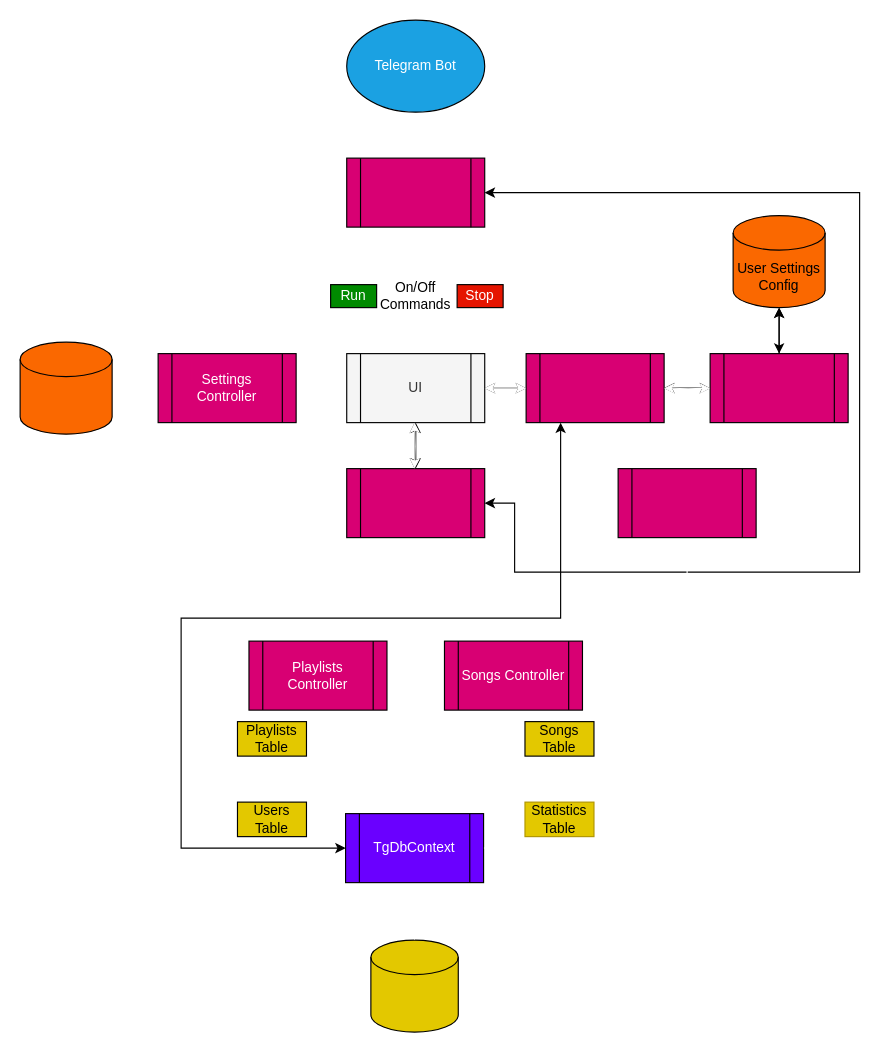
This 890x1052 diagram has some shape labels left out. Here are the shapes that lost their labels. From the top down, the box of each, then its label:
(346, 157, 485, 227): Bot Controller
(19, 341, 112, 434): Settings Config
(525, 352, 664, 423): User Controller
(709, 352, 848, 423): User Settings Controller
(346, 467, 485, 538): Library Controller
(617, 467, 756, 538): Statistics Controller
(370, 939, 458, 1032): Database
